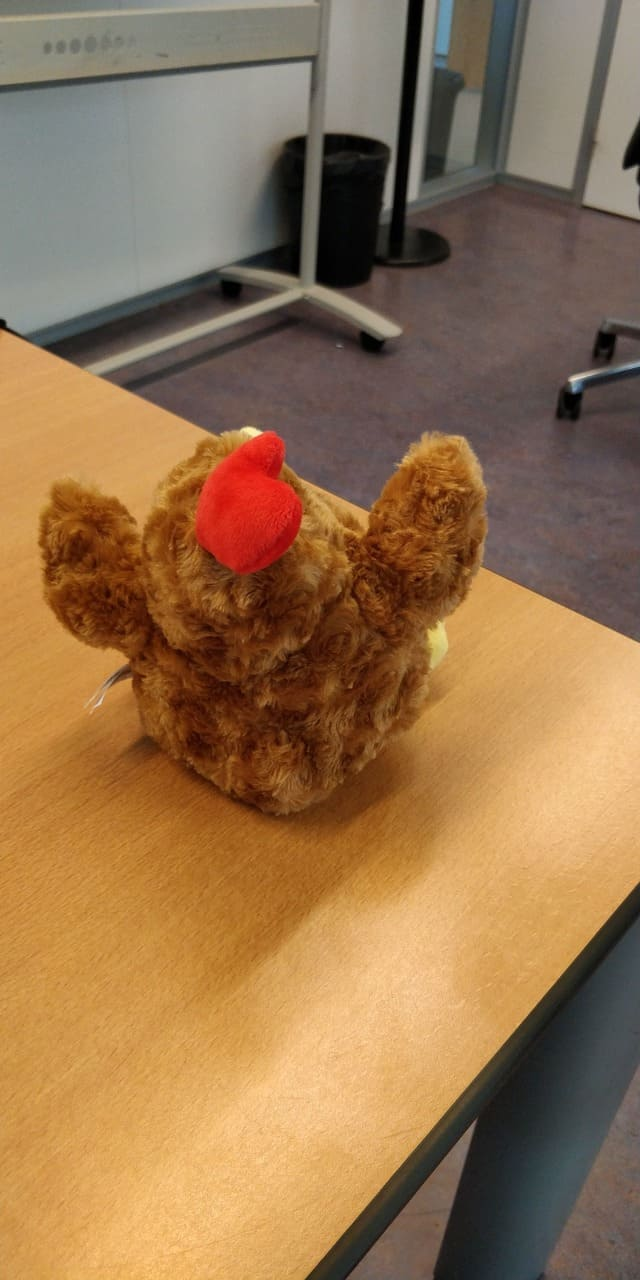fakeChicken: (35, 424, 489, 820)
